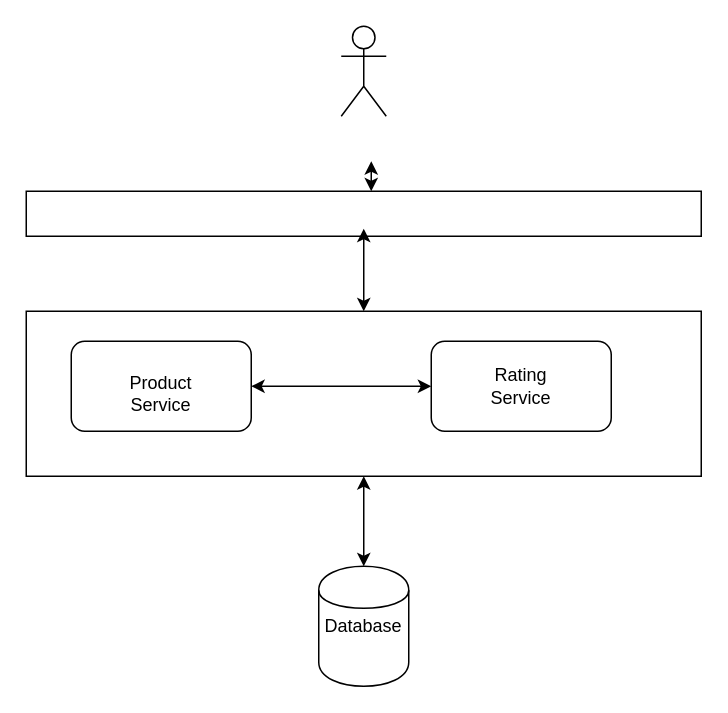
The diagram is 728 pixels wide and 713 high, and some of its shapes have lost their labels. Each missing label, with the box of its shape:
Customer: (340, 25, 386, 116)
Frontend Application: (25, 190, 701, 236)
